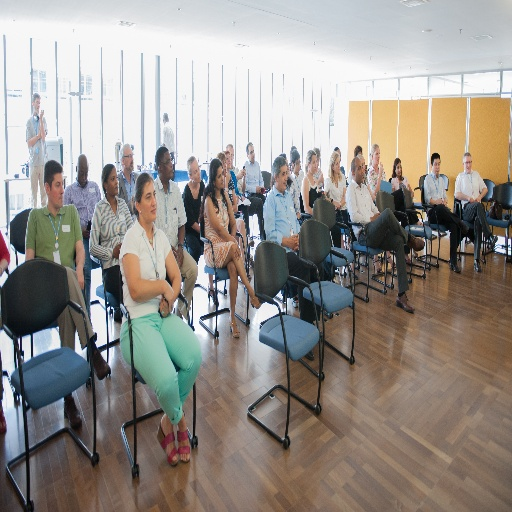hand: (162, 279, 173, 315), (158, 296, 170, 317), (74, 267, 84, 291), (286, 230, 297, 249), (111, 240, 122, 258), (176, 242, 183, 268), (234, 237, 241, 261), (291, 231, 299, 249), (234, 168, 244, 180), (224, 169, 230, 188), (80, 225, 88, 239), (370, 211, 380, 220), (170, 243, 176, 257), (465, 194, 474, 203), (318, 169, 324, 182), (377, 161, 383, 174), (334, 199, 341, 209), (240, 166, 245, 179), (238, 193, 246, 201), (39, 108, 45, 117), (255, 183, 261, 192), (436, 195, 442, 204), (474, 194, 481, 201), (442, 198, 447, 206), (38, 128, 41, 141), (235, 192, 238, 203), (335, 204, 339, 210)
